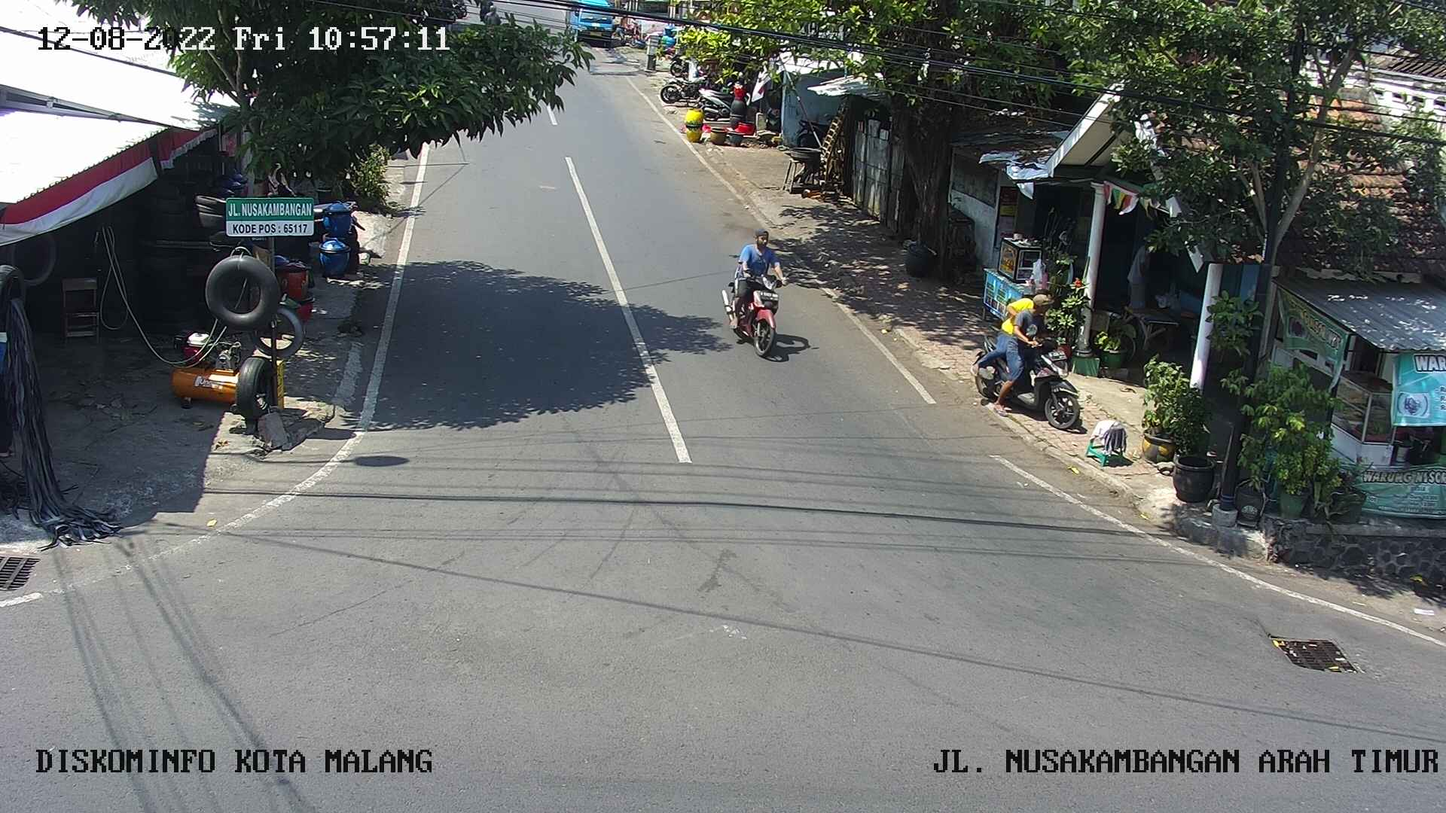without_helmet: (717, 221, 793, 361)
